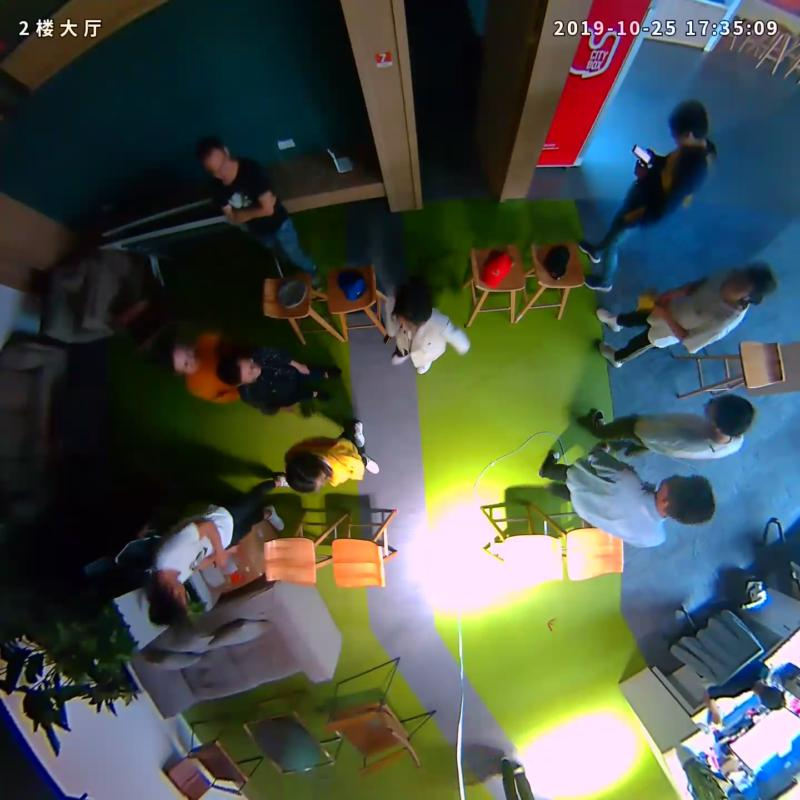head: (658, 474, 716, 526), (720, 263, 777, 310), (704, 394, 754, 438), (391, 281, 434, 331), (149, 582, 191, 628), (670, 101, 710, 147), (155, 337, 201, 376), (285, 453, 329, 493), (193, 139, 234, 181), (215, 354, 262, 388)
